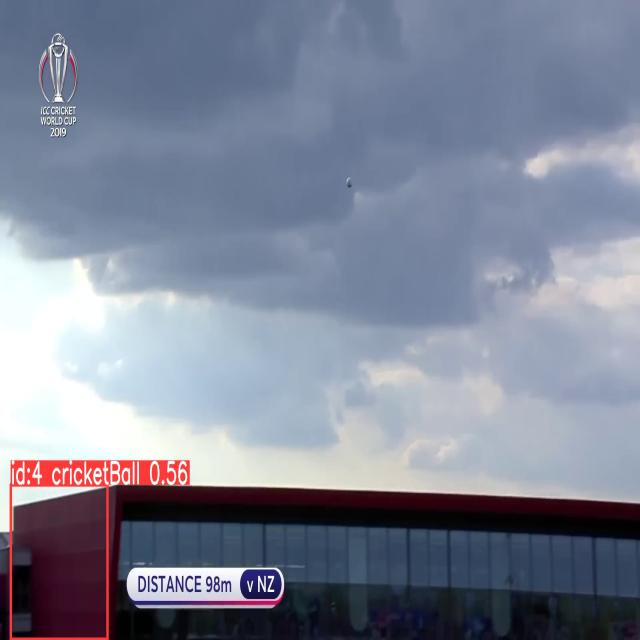ball: (346, 174, 352, 187)
